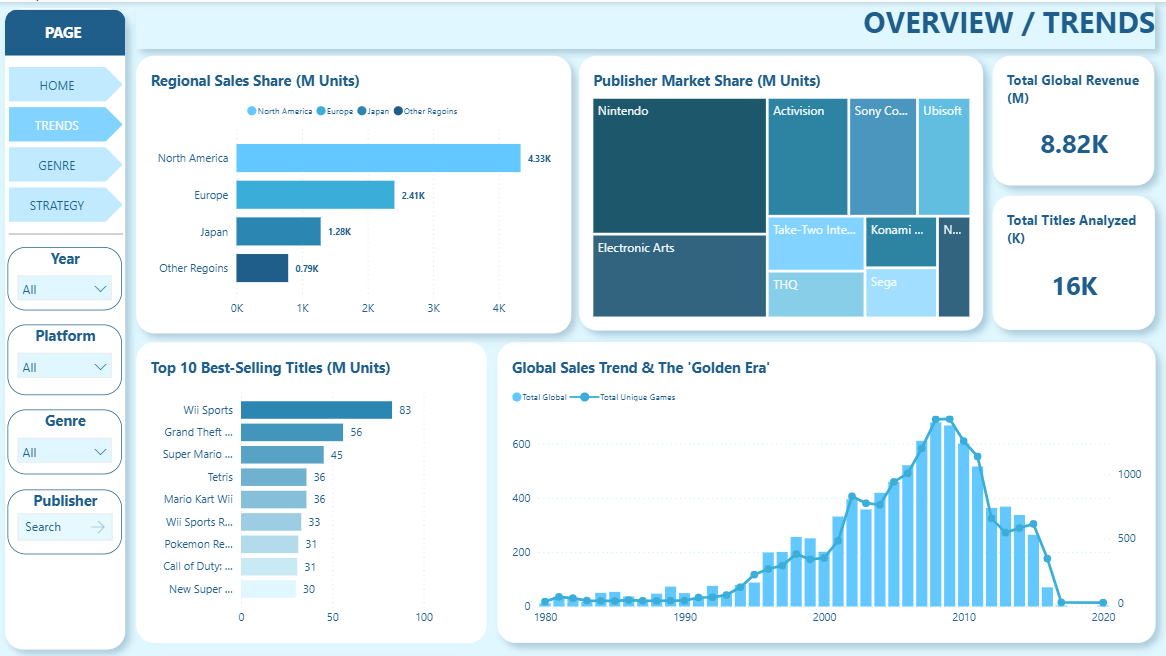

This screenshot's page, from the dashboard's own definition file:
{"tool":"powerbi","page":{"name":"TRENDS","canvas":[1280,720],"ordinal":1},"visuals":[{"type":"shape","box":[5.5,6.9,132,703.9],"z":0},{"type":"textbox","box":[149.2,0,1118.6,50.8],"z":1000},{"type":"lineClusteredColumnComboChart","title":"Global Sales Trend & The ''Golden Era''","fields":{"Category":["Data_Cleaned.Year"],"Y":["Data_Cleaned.Total Global"],"Y2":["Data_Cleaned.Total Unique Games"]},"box":[545.8,372.9,722,330.5],"z":2000},{"type":"card","title":"Total Global Revenue (M)","fields":{"Values":["Data_Cleaned.Total Global"]},"box":[1089.8,59.3,178,142.4],"z":3000},{"type":"textbox","box":[37.4,18.7,100.4,32.3],"z":4000},{"type":"card","title":"Total Titles Analyzed (K)","fields":{"Values":["Data_Cleaned.Total Unique Games"]},"box":[1089,212.4,178.2,146.8],"z":5000},{"type":"barChart","title":"Top 10 Best-Selling Titles (M Units)","fields":{"Y":["Massue.Total Sales"],"Category":["Data_Cleaned.Name"]},"box":[149.2,372.9,384.7,330.5],"z":6000},{"type":"treemap","title":"Publisher Market Share (M Units)","fields":{"Group":["Data_Cleaned.Publisher"],"Values":["Massue.Total Sales"]},"box":[635.6,59.3,444.1,301.7],"z":7000},{"type":"barChart","title":"Regional Sales Share (M Units)","fields":{"Category":["Data_Cleaned.Region"],"Y":["Massue.Total Sales"],"Series":["Data_Cleaned.Region"]},"box":[149.2,59.3,478,305.1],"z":8000},{"type":"shape","box":[5.1,8.5,132.2,50.8],"z":9000},{"type":"slicer","title":"Genre","fields":{"Values":["Data_Cleaned.Genre"]},"box":[8.5,447.5,125.4,71.2],"z":10000},{"type":"slicer","title":"Platform","fields":{"Values":["Data_Cleaned.Publisher"]},"box":[8.5,354.2,125.4,78],"z":11000},{"type":"slicer","title":"Year","fields":{"Values":["Data_Cleaned.Year"]},"box":[8.5,269.5,125.4,69.5],"z":12000},{"type":"textSlicer","title":"Publisher","fields":{"Values":["Data_Cleaned.Publisher"]},"box":[8.5,535.6,125.4,71.2],"z":13000},{"type":"pageNavigator","box":[9,55.9,125.4,186.4],"z":14000},{"type":"shape","box":[9,242.4,125.4,23.7],"z":15000},{"type":"textbox","box":[18.6,22,100,32.2],"z":16000}]}

Visuals, with their boxes in screenshot pixels (x1, y1, x2, y2), scaled from the page's 1280x720 canvas onto the 1166x656 screenshot:
shape: Rect(5, 6, 125, 648)
textbox: Rect(136, 0, 1155, 46)
"Global Sales Trend & The ''Golden Era''" lineClusteredColumnComboChart: Rect(497, 340, 1155, 641)
"Total Global Revenue (M)" card: Rect(993, 54, 1155, 184)
textbox: Rect(34, 17, 126, 46)
"Total Titles Analyzed (K)" card: Rect(992, 194, 1154, 327)
"Top 10 Best-Selling Titles (M Units)" barChart: Rect(136, 340, 486, 641)
"Publisher Market Share (M Units)" treemap: Rect(579, 54, 984, 329)
"Regional Sales Share (M Units)" barChart: Rect(136, 54, 571, 332)
shape: Rect(5, 8, 125, 54)
"Genre" slicer: Rect(8, 408, 122, 473)
"Platform" slicer: Rect(8, 323, 122, 394)
"Year" slicer: Rect(8, 246, 122, 309)
"Publisher" textSlicer: Rect(8, 488, 122, 553)
pageNavigator: Rect(8, 51, 122, 221)
shape: Rect(8, 221, 122, 242)
textbox: Rect(17, 20, 108, 49)
